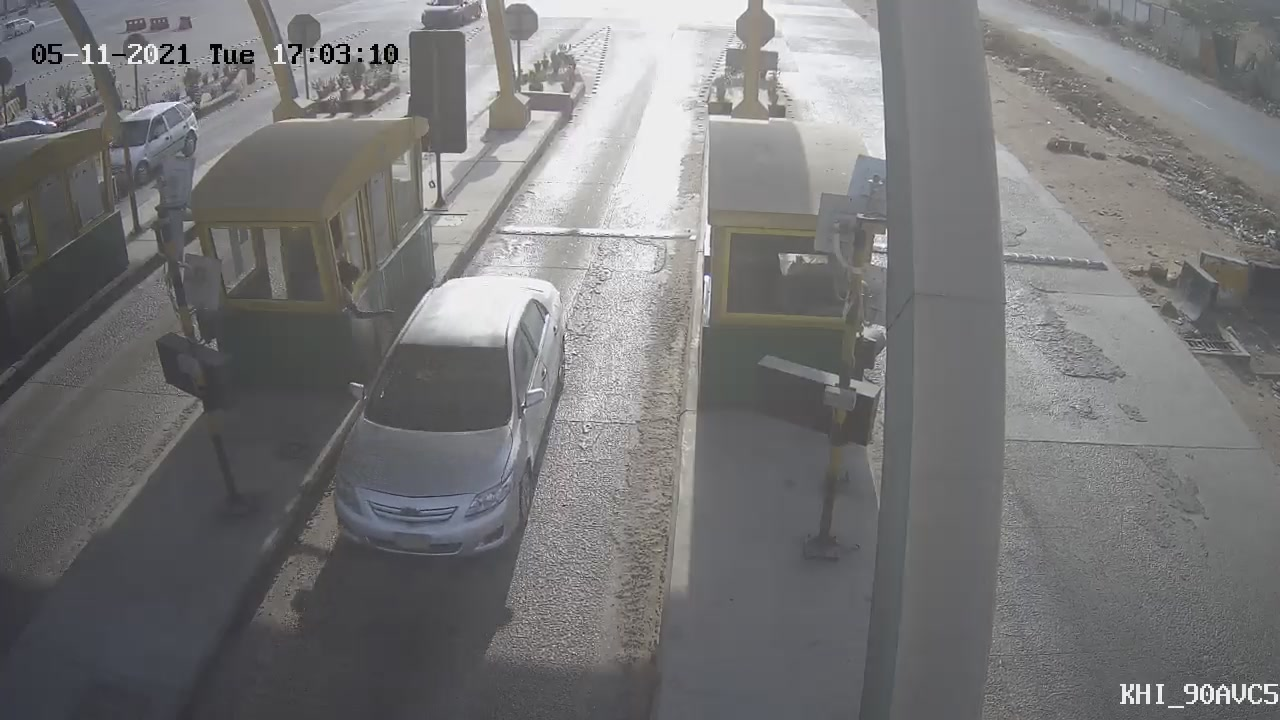F1: (313, 252, 591, 582)
